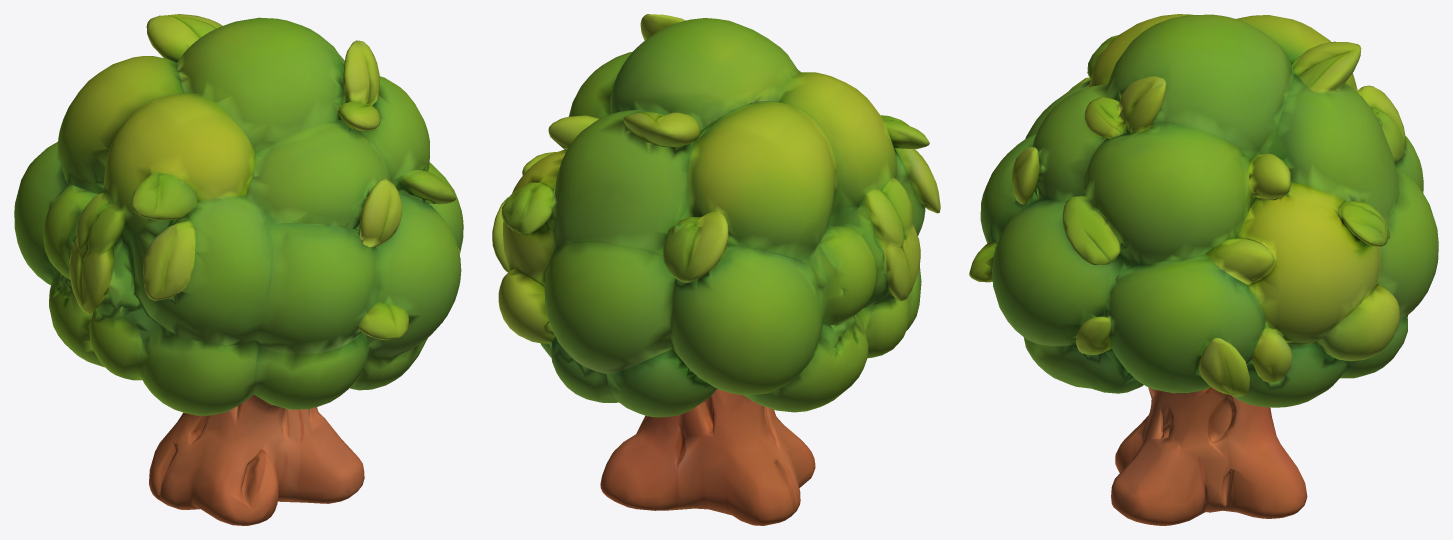
The model's file is tree.glb.
3 renders of one model, left to right at view 1: azimuth 30°, elevation 25°; view 2: azimuth 150°, elevation 25°; view 3: azimuth 270°, elevation 25°, orthographic. The views are drawn at different scales.
Parts seen in each view (by area): view 1: tripo_node_503170f6-87c0-4ba1-a1b6-be631a741928; view 2: tripo_node_503170f6-87c0-4ba1-a1b6-be631a741928; view 3: tripo_node_503170f6-87c0-4ba1-a1b6-be631a741928.
Boxes of the visible parts, bbox=[...] form: tripo_node_503170f6-87c0-4ba1-a1b6-be631a741928: bbox=[14, 14, 463, 525]; tripo_node_503170f6-87c0-4ba1-a1b6-be631a741928: bbox=[492, 14, 940, 525]; tripo_node_503170f6-87c0-4ba1-a1b6-be631a741928: bbox=[969, 14, 1438, 525].
Size of the model in its own units: 0.8762 by 0.9993 by 0.8852.
1 material, 1 textured.
